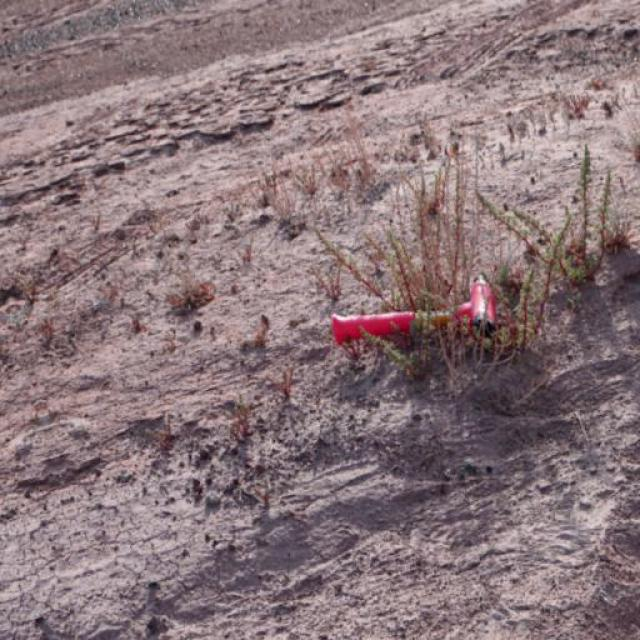mallet: (329, 272, 499, 348)
